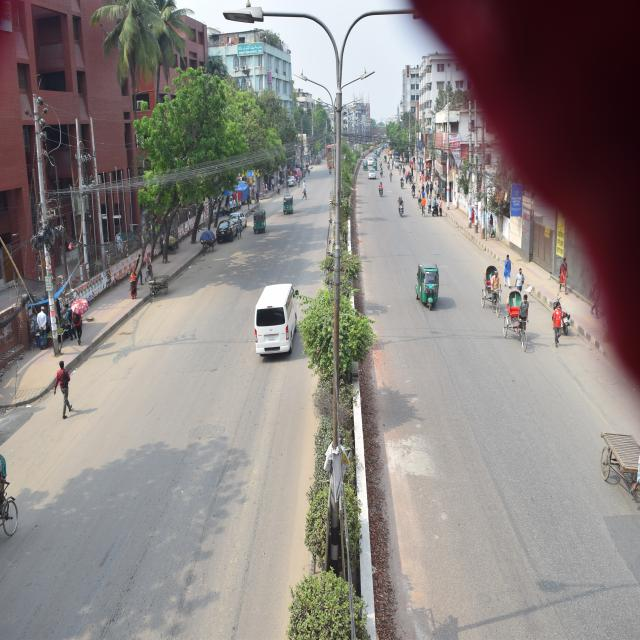car: (214, 219, 238, 242), (230, 206, 248, 229), (367, 164, 374, 183), (368, 152, 376, 163)
microbus: (252, 278, 302, 374)
motorbike: (555, 300, 574, 339), (374, 181, 388, 203), (398, 198, 409, 216)
